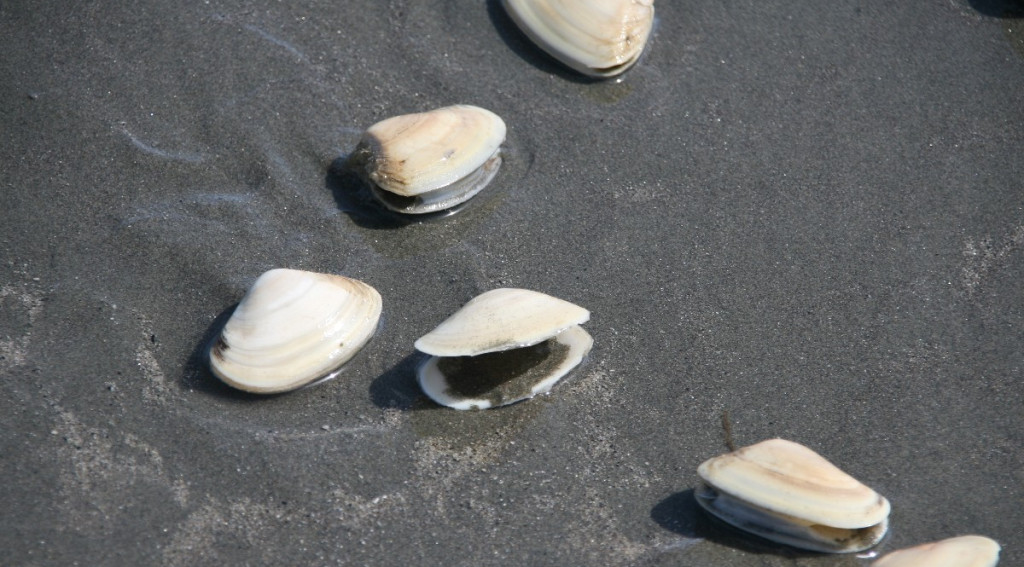tuatua: (200, 260, 387, 405), (688, 430, 902, 554), (352, 103, 510, 224), (406, 280, 597, 358)
